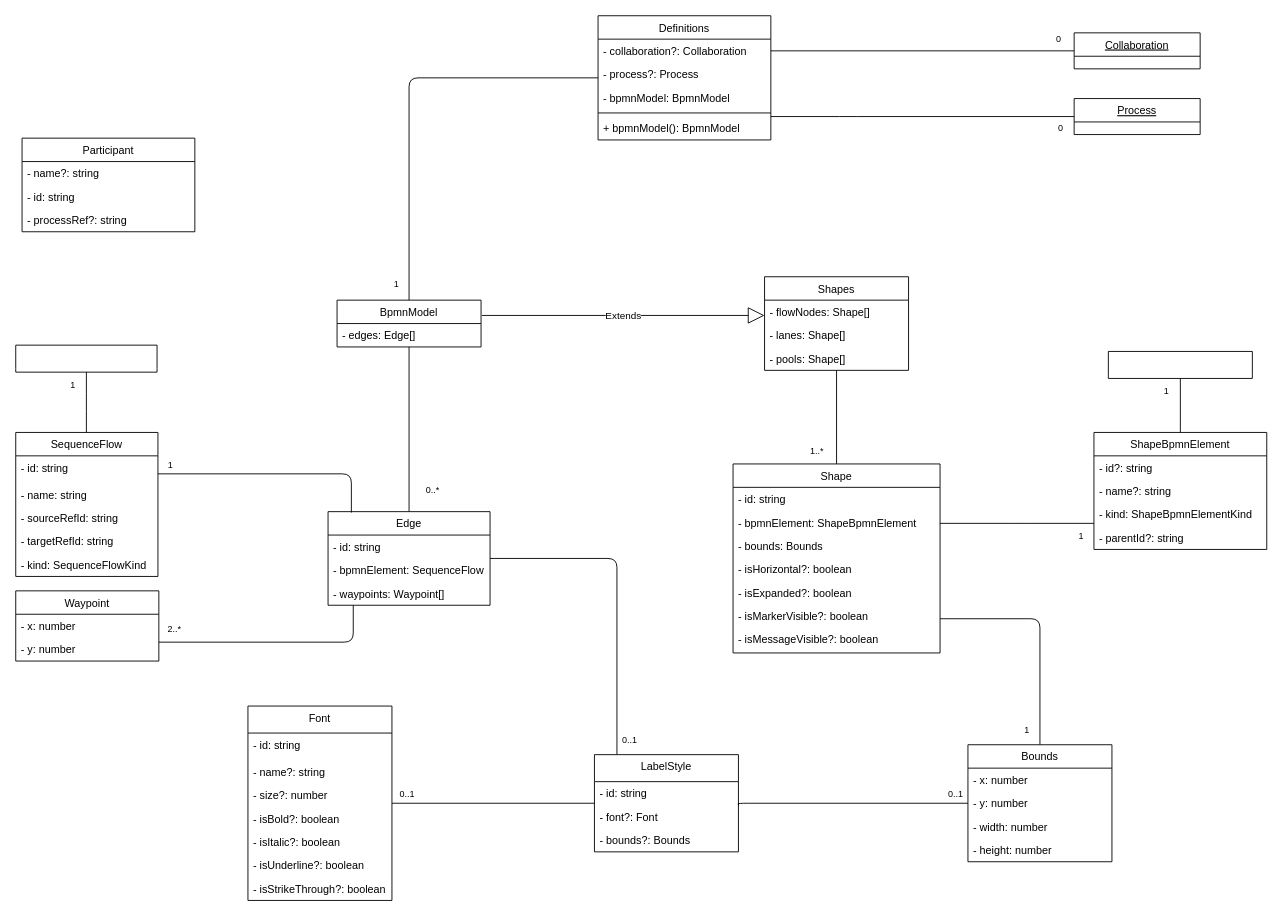
The diagram is 1283 pixels wide and 919 high, and some of its shapes have lost their labels. The shapes that lost their labels are listed below. From the top down, each one's centre as x and y in pixels, then its label:
At point (86, 358): "SequenceFlowKind".
At point (1179, 364): "ShapeBpmnElementKind".
